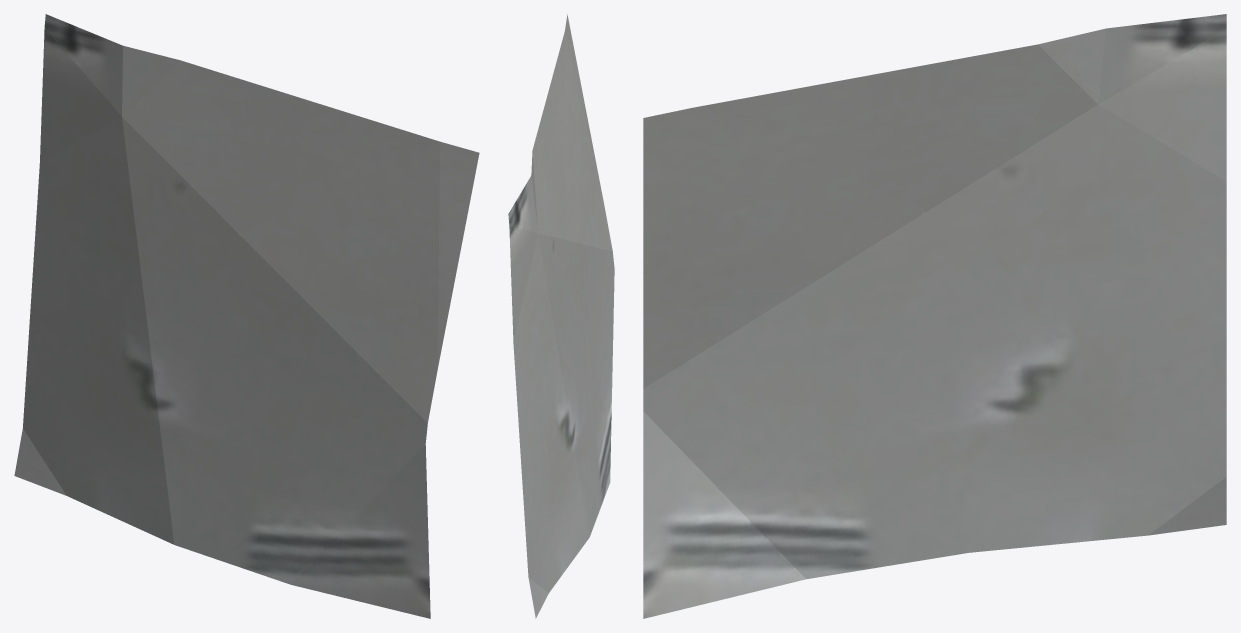
3 renders of one model, left to right at view 1: azimuth 30°, elevation 25°; view 2: azimuth 150°, elevation 25°; view 3: azimuth 270°, elevation 25°, orthographic. The views are drawn at different scales.
Bounding box in the file's own units: 0.4138 × 0.8374 × 0.8373.
3 materials, 3 textured.
